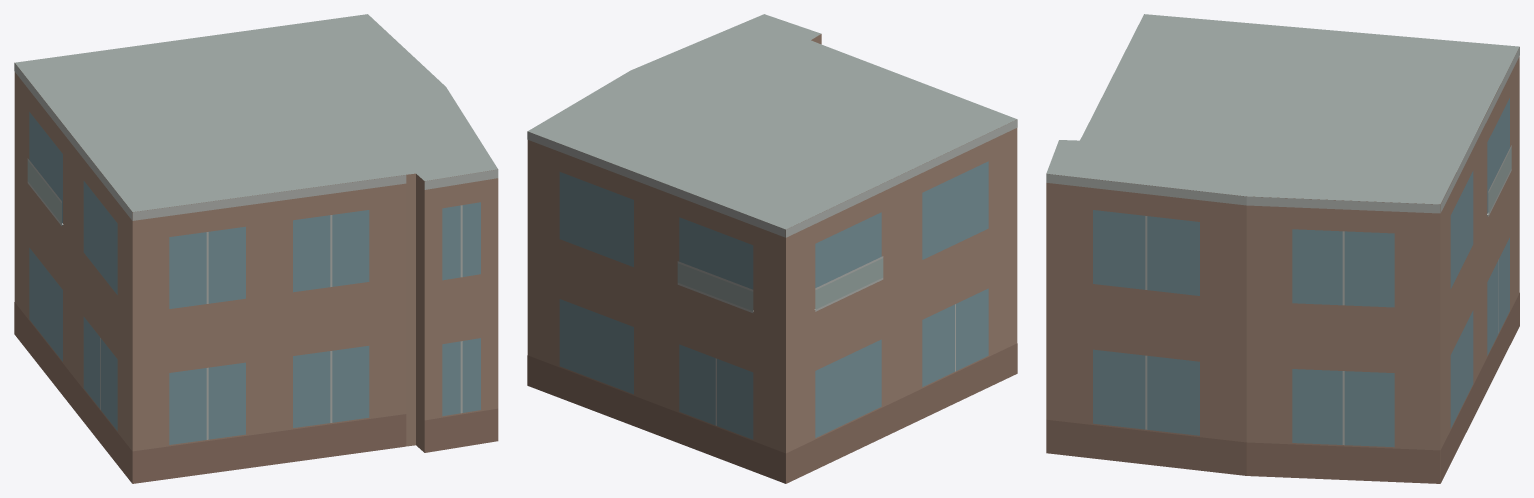
The model's file is survey-upis-32510383.glb.
3 views of the same model, side by side, from view 1: azimuth 30°, elevation 25°; view 2: azimuth 150°, elevation 25°; view 3: azimuth 270°, elevation 25° (orthographic). The views are drawn at different scales.
Parts seen in each view (by area): view 1: survey-upis-32510383.tmp; view 2: survey-upis-32510383.tmp; view 3: survey-upis-32510383.tmp.
Part boxes in pixels (left/top/right/bottom): survey-upis-32510383.tmp: left=14, top=14, right=498, bottom=483; survey-upis-32510383.tmp: left=527, top=14, right=1017, bottom=483; survey-upis-32510383.tmp: left=1046, top=14, right=1519, bottom=483.
Size of the model in its own units: 10.97 by 7.5 by 11.53.
